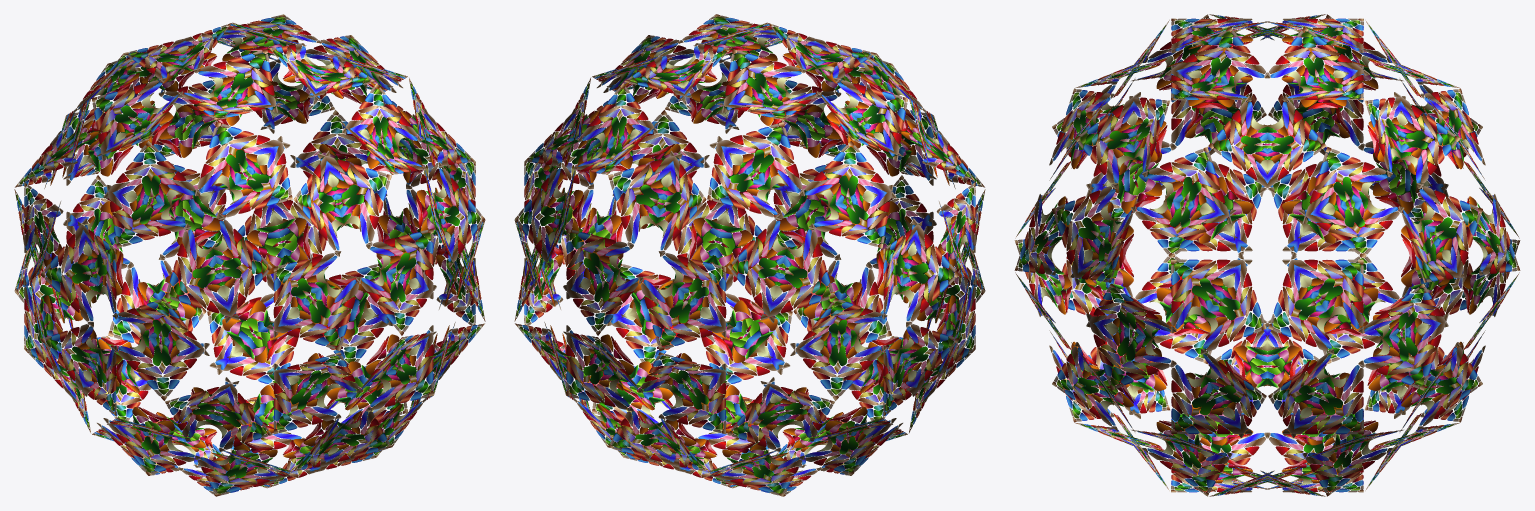
Rendered from 3Rhombidodecadodecahedron.gltf.
3 renders of one model, left to right at view 1: azimuth 30°, elevation 25°; view 2: azimuth 150°, elevation 25°; view 3: azimuth 270°, elevation 25°, orthographic. The views are drawn at different scales.
Visible parts, largest first — view 1: Rhombidodecadodecahedron9; view 2: Rhombidodecadodecahedron9; view 3: Rhombidodecadodecahedron9.
Boxes of the visible parts, left/top/right/bottom form: Rhombidodecadodecahedron9: left=14, top=14, right=485, bottom=496; Rhombidodecadodecahedron9: left=514, top=14, right=985, bottom=496; Rhombidodecadodecahedron9: left=1014, top=14, right=1520, bottom=496.
Bounding box in the file's own units: 2.62 × 2.62 × 2.62.
1 material, 1 textured.
